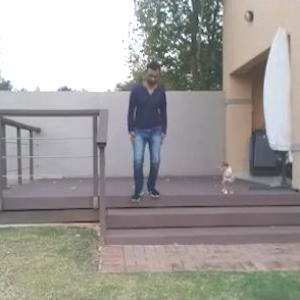follow: (126, 61, 161, 204)
